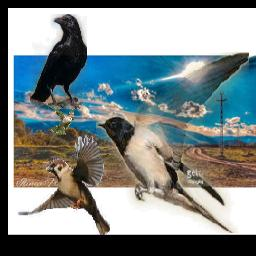Crow: (31, 15, 88, 110)
Sparrow: (18, 134, 111, 235), (50, 103, 74, 136)
Swallow: (97, 52, 250, 233)
